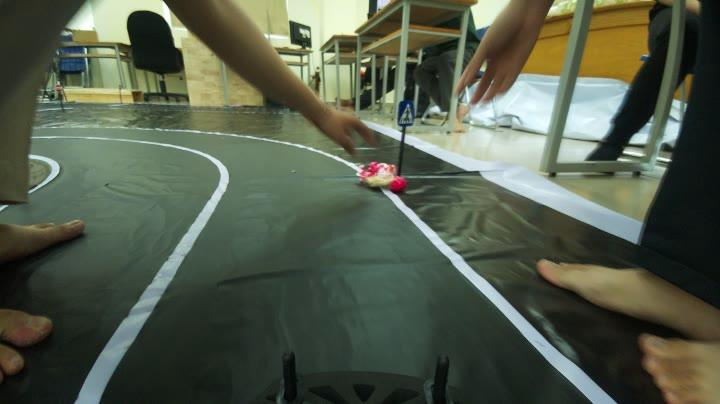crosswalk: (388, 97, 420, 128)
